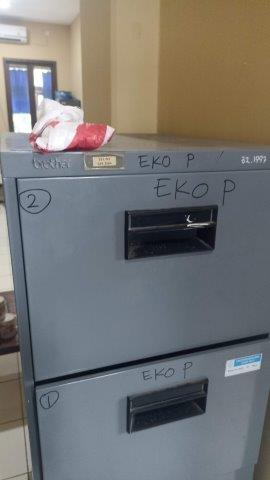plastik: (30, 98, 115, 152)
